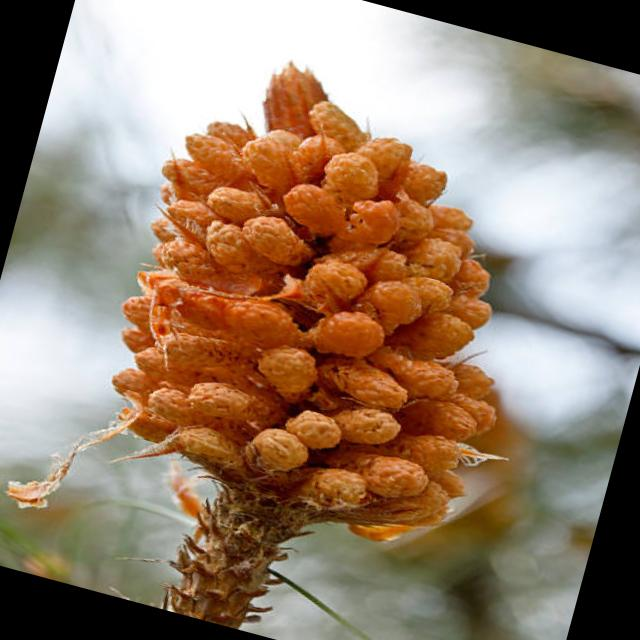Pine: (52, 13, 640, 640)
